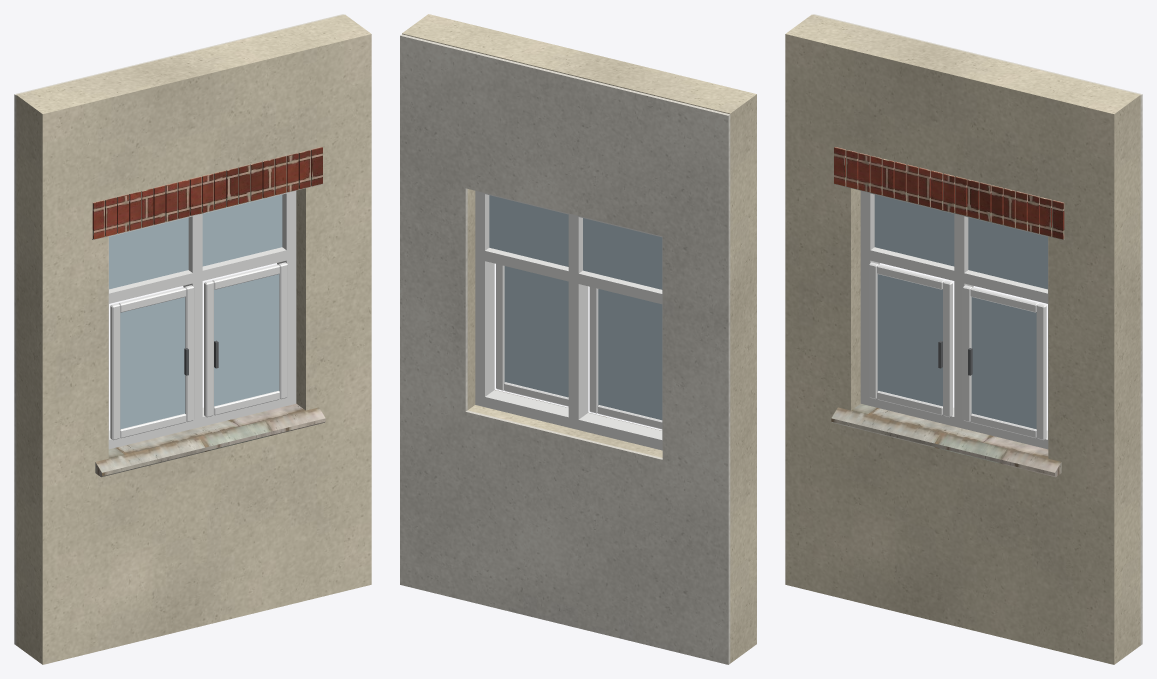
File: w_u_win.glb
3 renders of one model, left to right at view 1: azimuth 30°, elevation 25°; view 2: azimuth 150°, elevation 25°; view 3: azimuth 330°, elevation 25°, orthographic.
Visible parts, largest first — view 1: w_u_win_render, w_u_win_glass, w_u_win_frame, w_u_win_brick, w_u_win_sash, w_u_win_cill, w_u_win_plaster; view 2: w_u_win_plaster, w_u_win_render, w_u_win_glass, w_u_win_frame, w_u_win_sash; view 3: w_u_win_render, w_u_win_glass, w_u_win_frame, w_u_win_brick, w_u_win_sash, w_u_win_cill, w_u_win_plaster.
Boxes of the visible parts, <box> form: w_u_win_render: <box>16,14,371,664</box>; w_u_win_glass: <box>109,194,282,429</box>; w_u_win_frame: <box>108,191,296,449</box>; w_u_win_brick: <box>92,147,322,239</box>; w_u_win_sash: <box>110,262,287,440</box>; w_u_win_cill: <box>92,183,325,477</box>; w_u_win_plaster: <box>14,14,343,645</box>; w_u_win_plaster: <box>400,34,730,664</box>; w_u_win_render: <box>402,14,756,663</box>; w_u_win_glass: <box>489,195,662,420</box>; w_u_win_frame: <box>475,190,662,450</box>; w_u_win_sash: <box>496,264,662,429</box>; w_u_win_render: <box>785,14,1140,664</box>; w_u_win_glass: <box>874,194,1047,429</box>; w_u_win_frame: <box>860,191,1048,449</box>; w_u_win_brick: <box>834,147,1064,239</box>; w_u_win_sash: <box>869,262,1046,440</box>; w_u_win_cill: <box>831,183,1064,477</box>; w_u_win_plaster: <box>813,14,1142,645</box>.
Size of the model in its own units: 2 by 3.2 by 0.37.
Materials: 8 (4 with a texture image).
